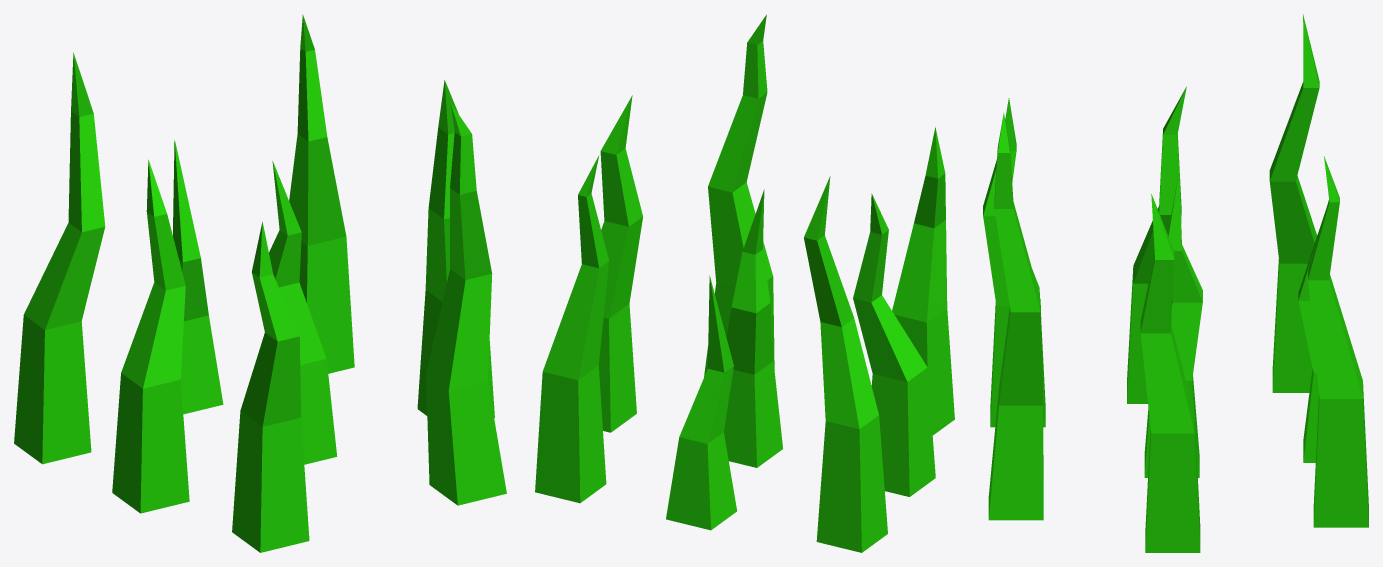
The model's file is Grass.fbx.
3 views of the same model, side by side, from view 1: azimuth 30°, elevation 25°; view 2: azimuth 150°, elevation 25°; view 3: azimuth 270°, elevation 25° (orthographic). The views are drawn at different scales.
Visible parts, largest first — view 1: Cube; view 2: Cube; view 3: Cube.
Part boxes in pixels (x1,y1,x2,y2): Cube: (14,14,506,552); Cube: (535,14,954,552); Cube: (983,14,1368,552).
Bounding box in the file's own units: 1576 × 1545 × 1401.
